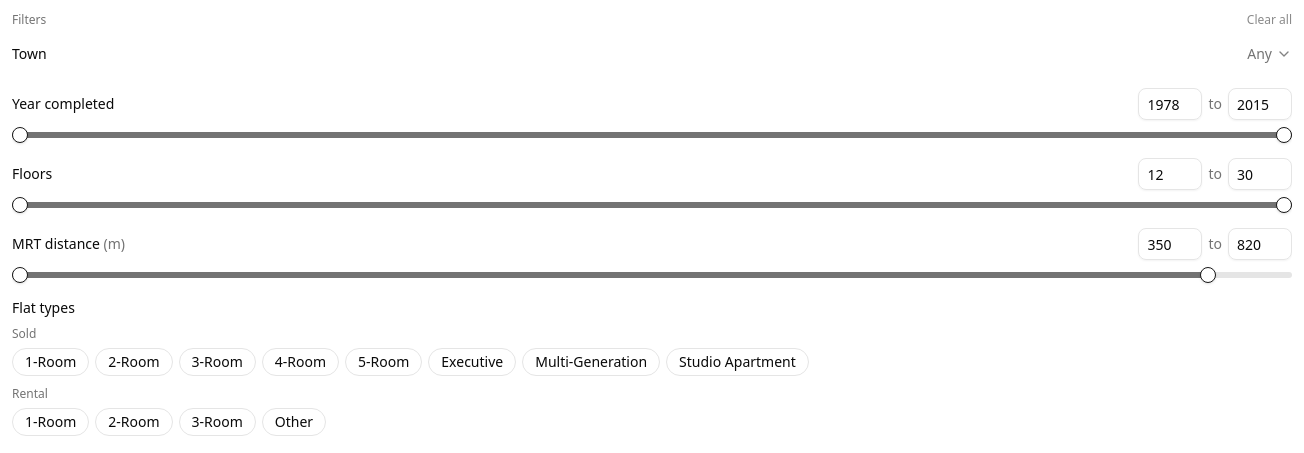
Test: Clear all is enabled only while a filter is on, and empties the store
This screenshot has width=1304, height=453.
Expected: the button "Clear all" is disabled, [1247,12,1292,28]
Replace the text in the number field named "Floors, from" with "20": (1170, 174) [1138,158,1202,190]
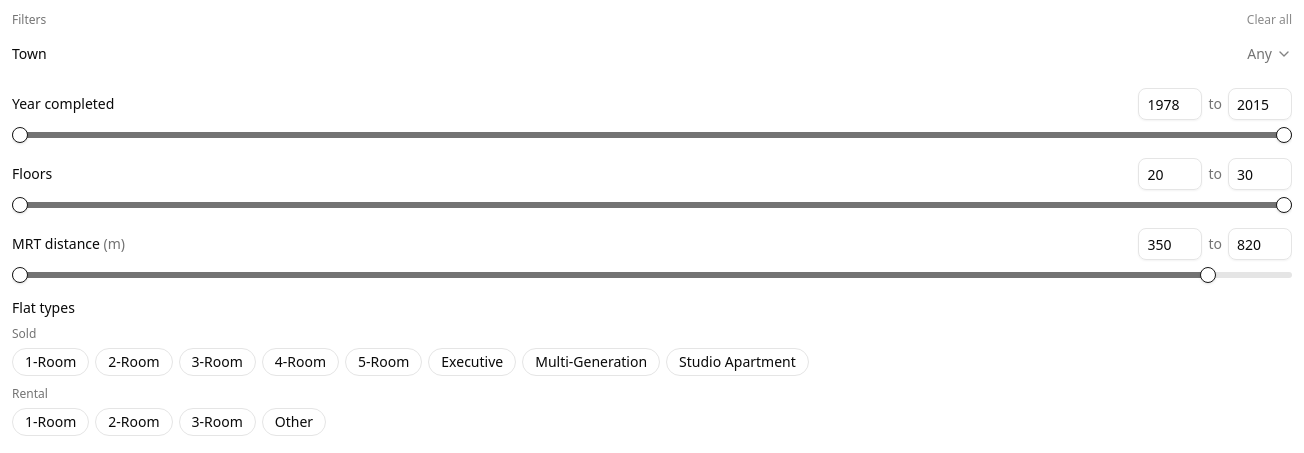
Press Enter in the number field named "Floors, from", box [1138,158,1202,190]
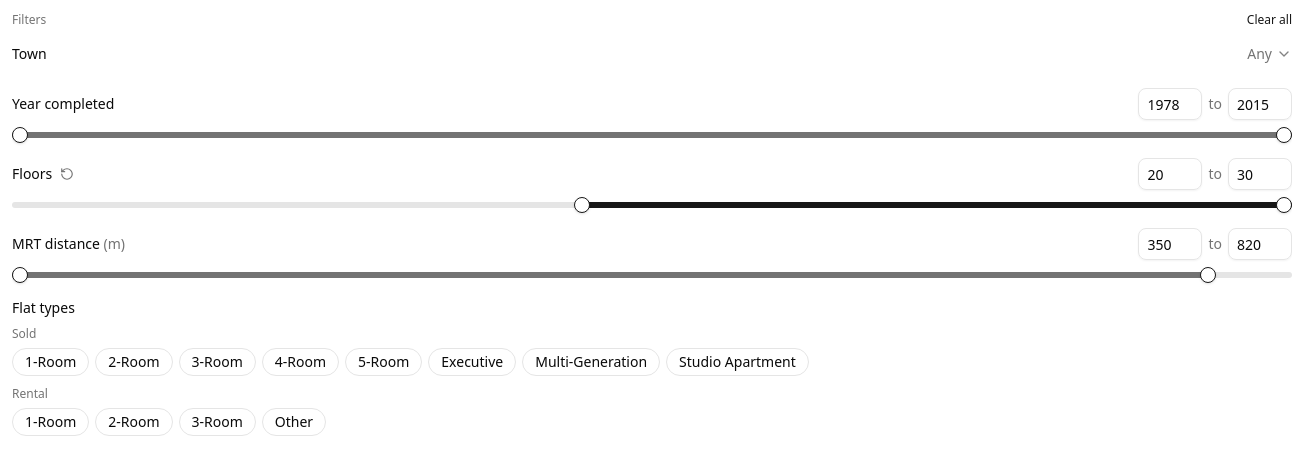
Result: the button "Clear all" is enabled
Click the button "Clear all": (1269, 20) [1247,12,1292,28]
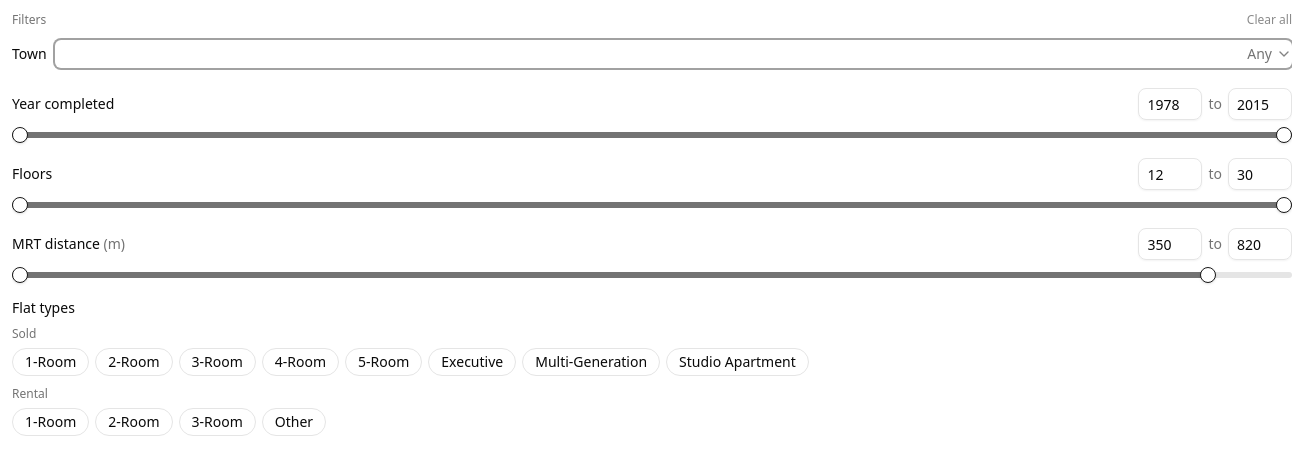
Result: the button "Clear all" is disabled at [1247,12,1292,28]
